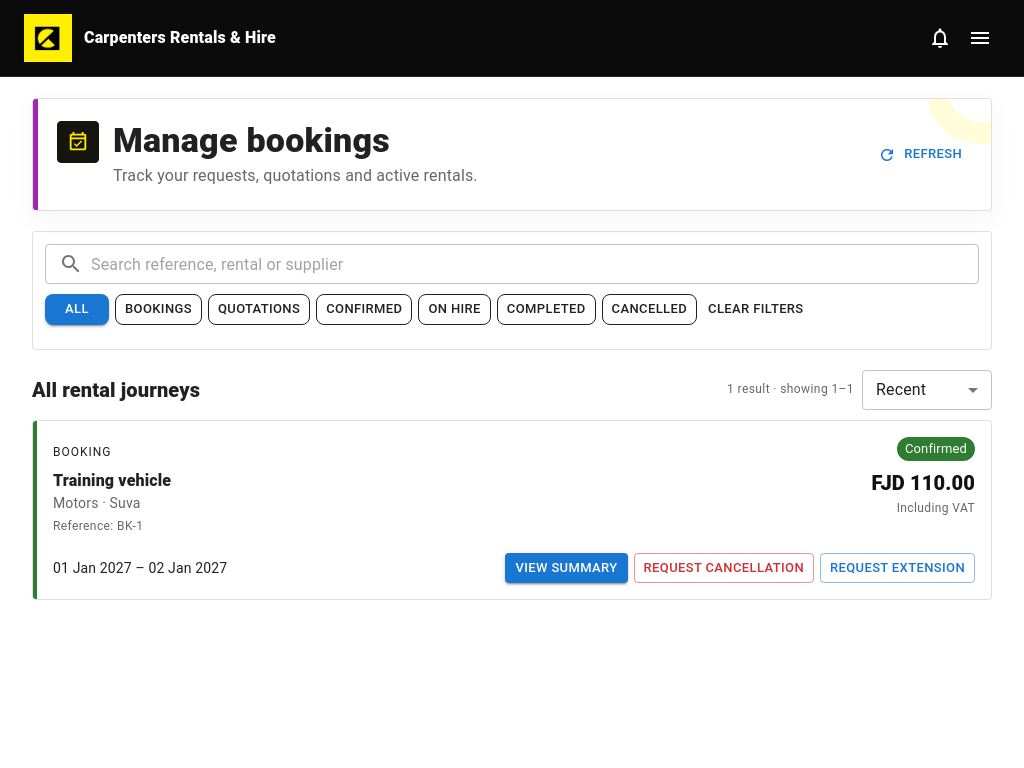
Test: shows the full customer-safe rental, financial, incident and request summary
The width and height of the screenshot is (1024, 768).
Later steps or results of the test are not shown.
Expected: the text "Training vehicle" is shown, [53,469,171,493]
Click the button "View summary": click(566, 568) [505,553,628,584]
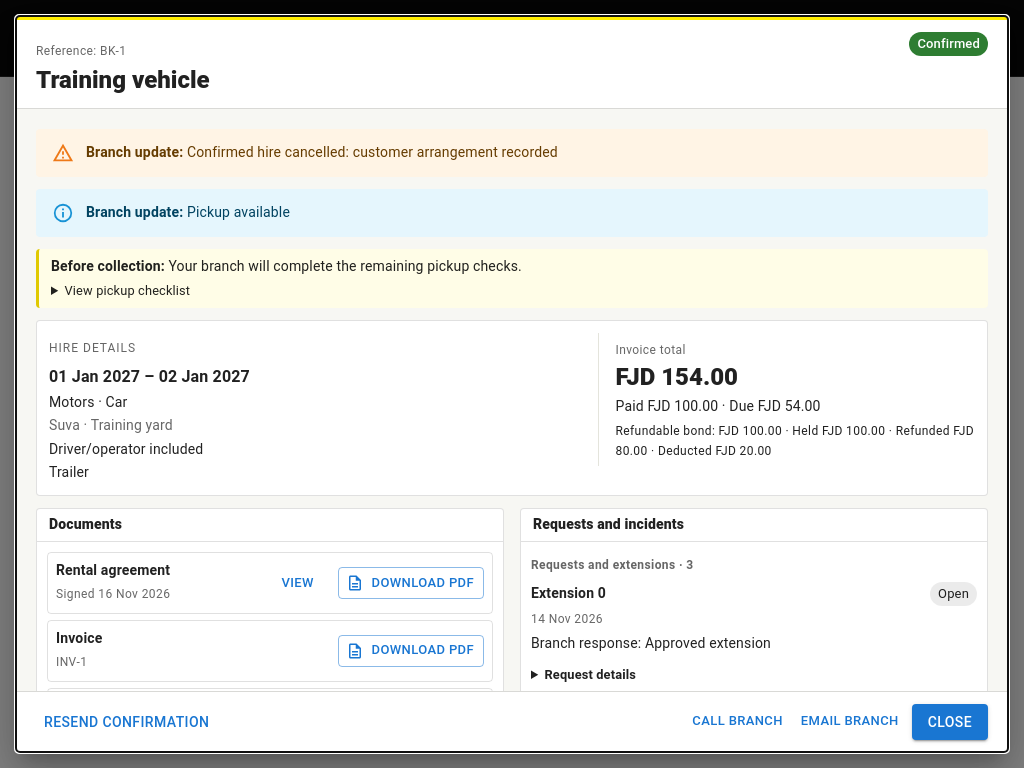
Now the text "Before collection:" is shown, box [51,258,165,274]
Now the text "Trailer" is shown, box [49,464,89,480]
